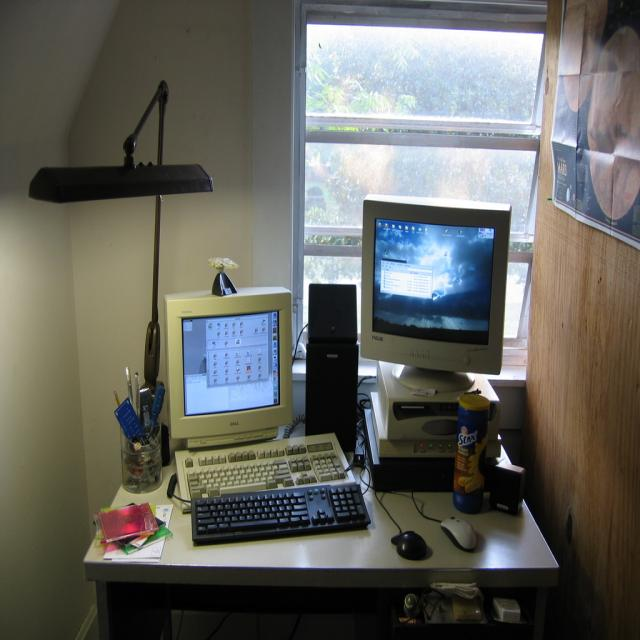desk: (86, 462, 558, 636)
keyboard: (186, 480, 371, 546), (178, 436, 354, 500)
mouse: (440, 517, 477, 551), (390, 530, 428, 560)
tv: (362, 194, 512, 378), (164, 286, 294, 449)
